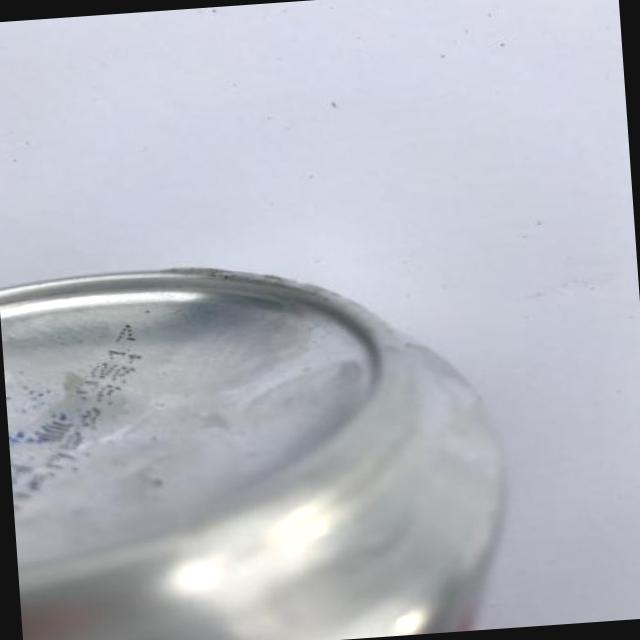metal: (0, 269, 500, 639)
